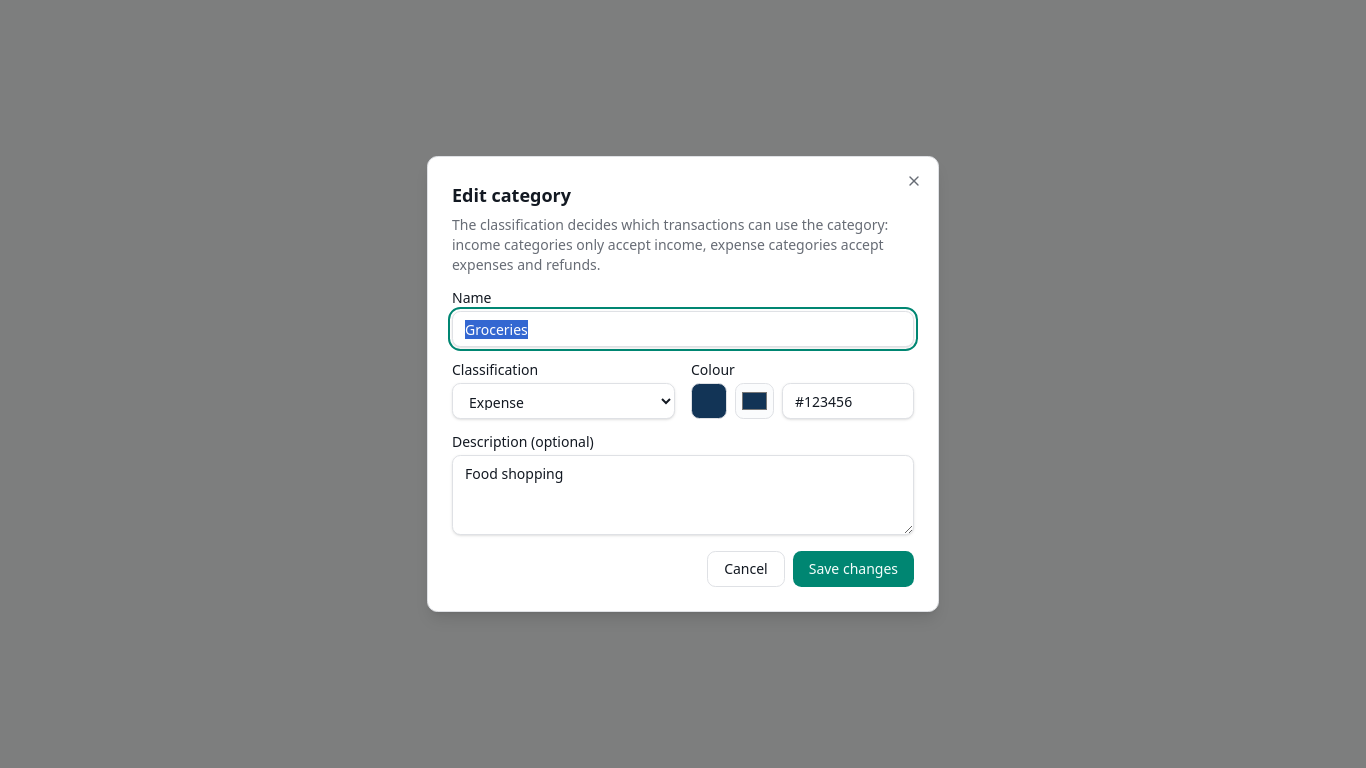
it: CategoryFormDialog › prefills the colour from the category and keeps both colour controls in sync
Clear the field named "Colour hex value" at (848, 401), box x1=782 y1=383 x2=914 y2=419
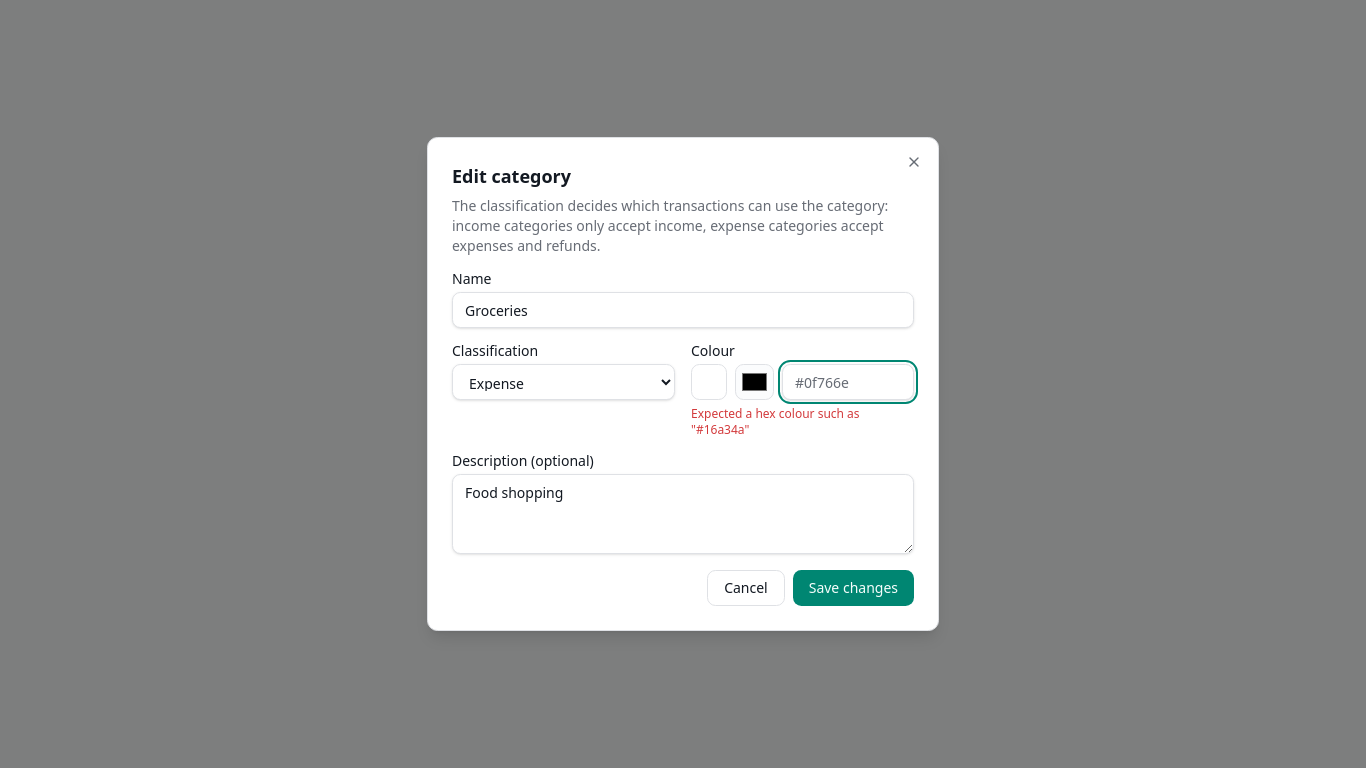
Type "#abcdef" into the field named "Colour hex value" at (848, 382), box x1=782 y1=364 x2=914 y2=400
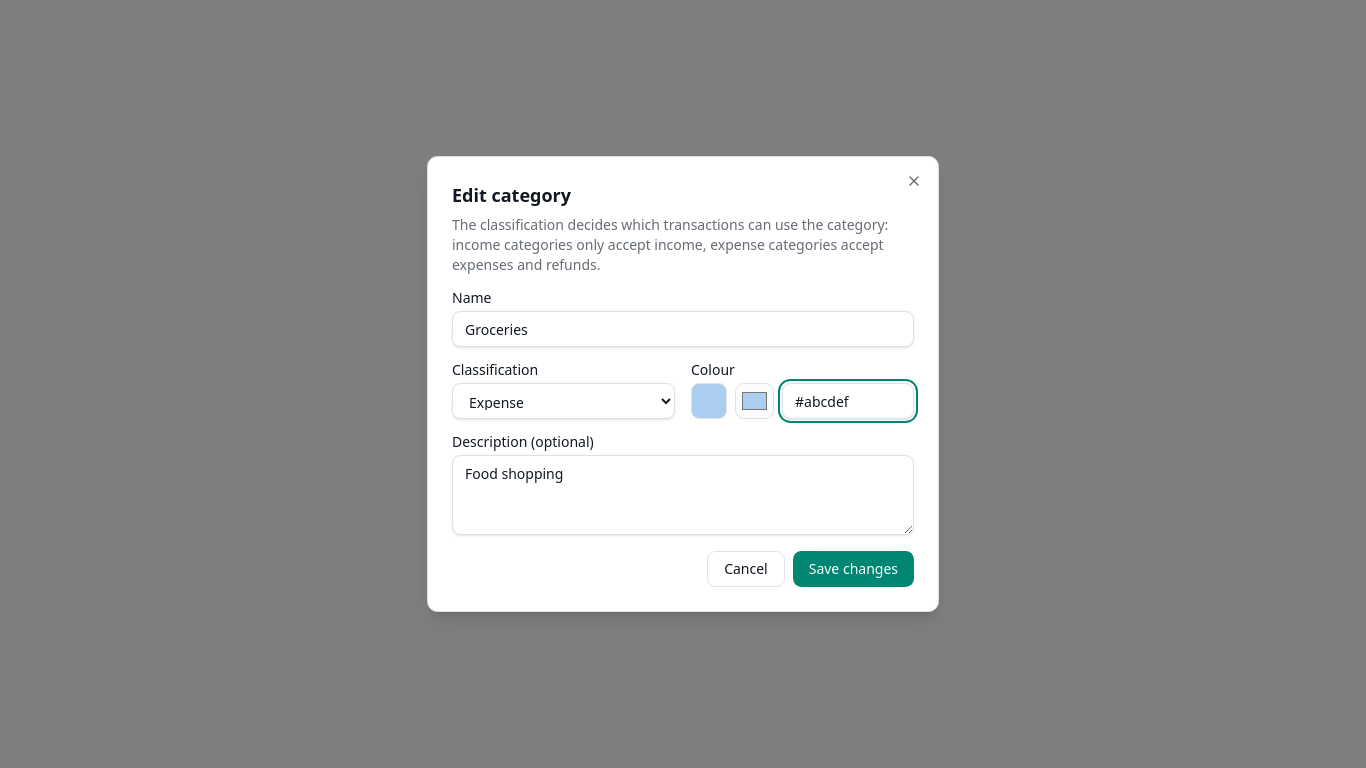
Result: the colour field with id "category-color" holds "#abcdef" at x1=735 y1=383 x2=774 y2=419
